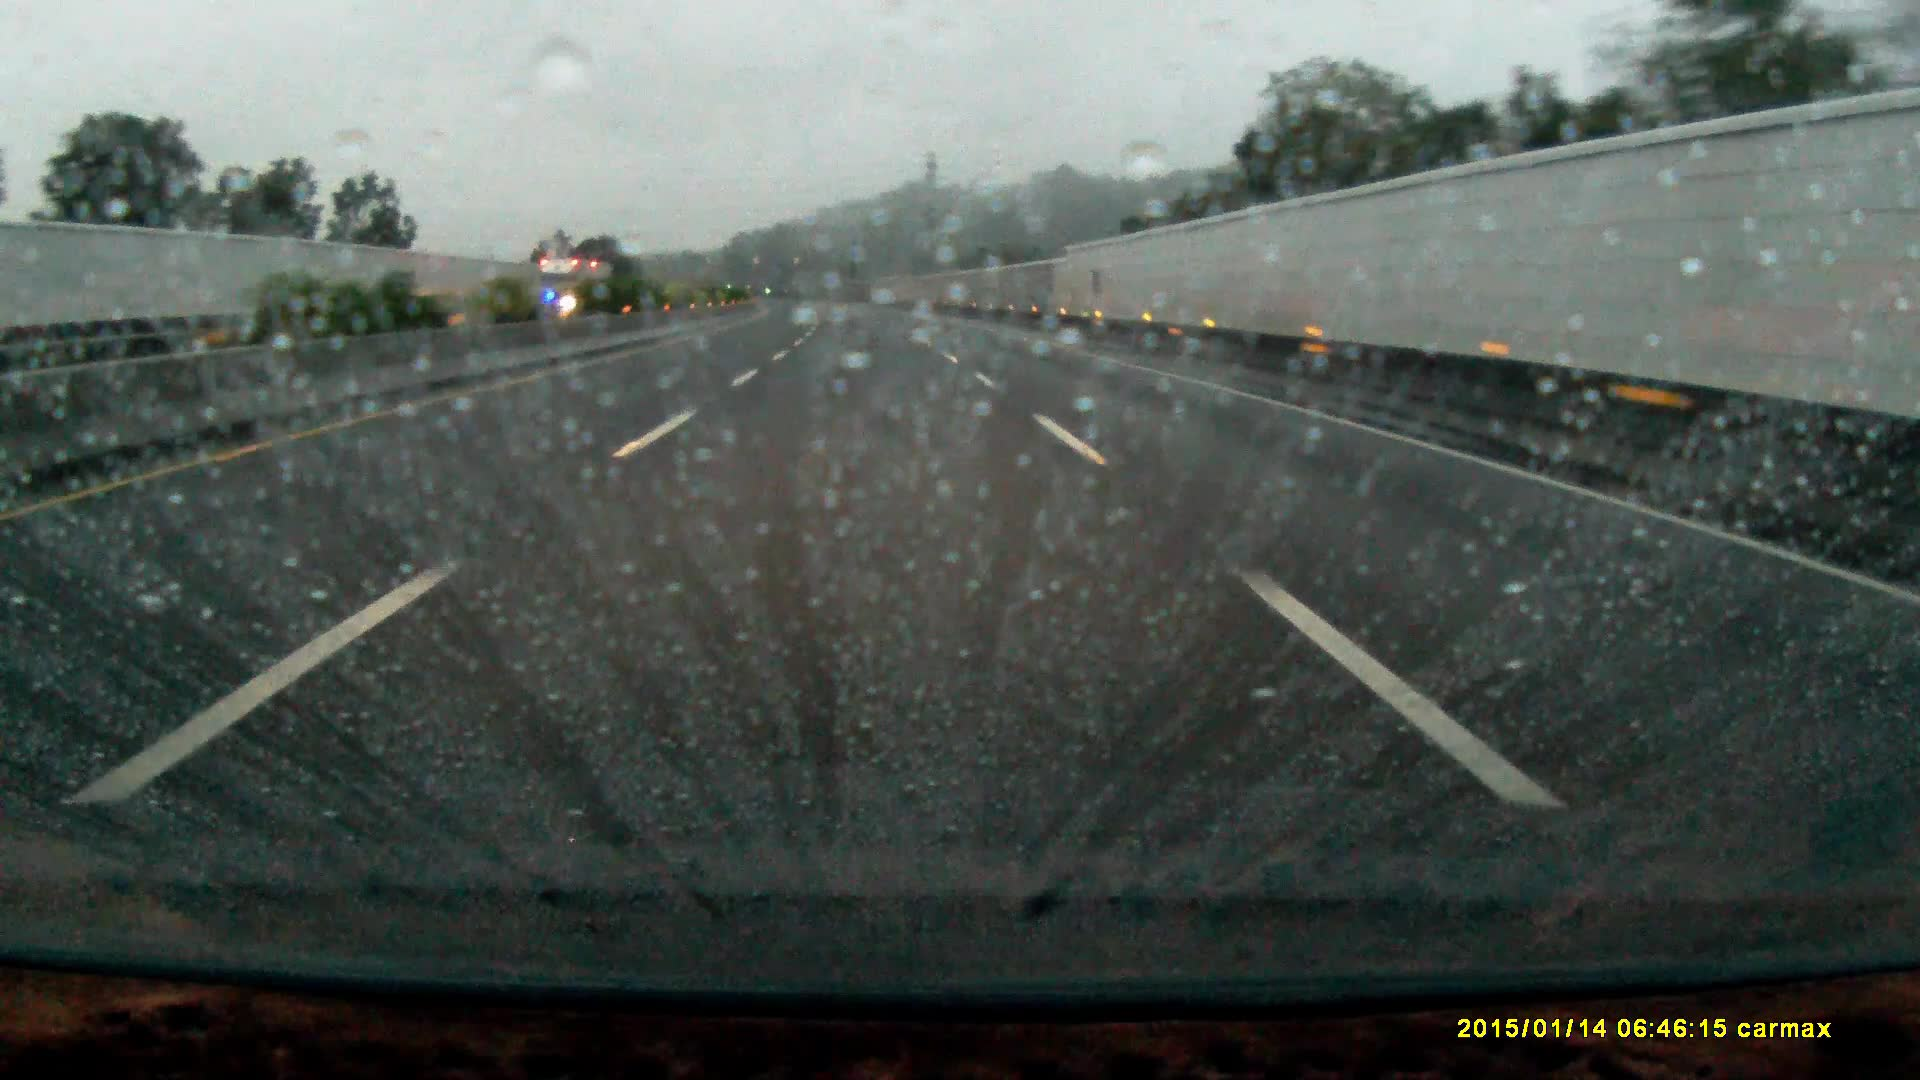vehicle: (535, 255, 613, 311)
